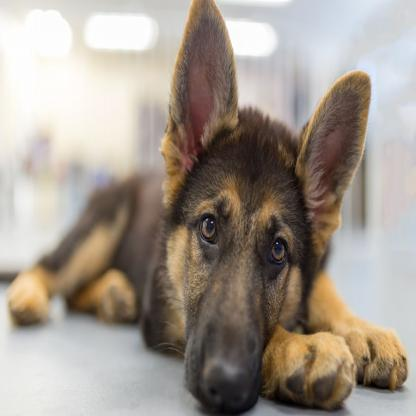german shepherd: (3, 5, 408, 412)
